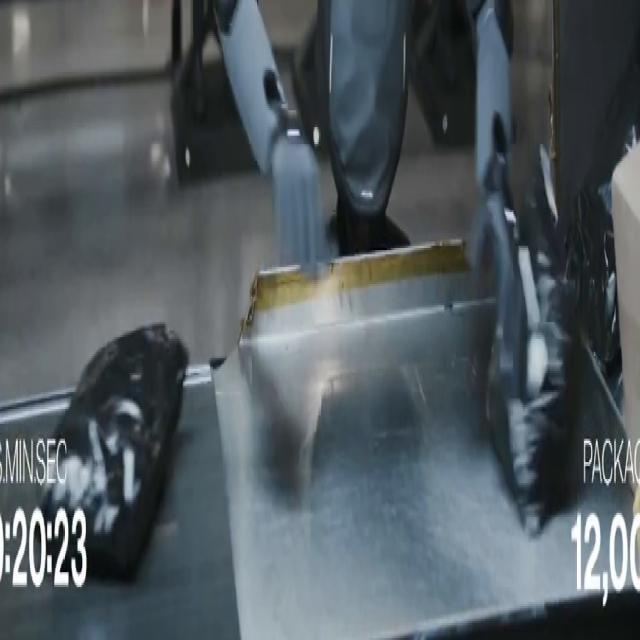package: (43, 325, 188, 580), (488, 149, 579, 536), (567, 45, 639, 377), (613, 147, 639, 451)
